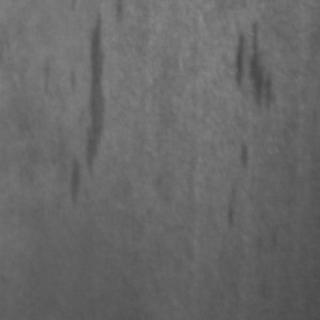inclusion: (58, 4, 106, 208), (222, 13, 278, 113), (216, 133, 254, 233)
